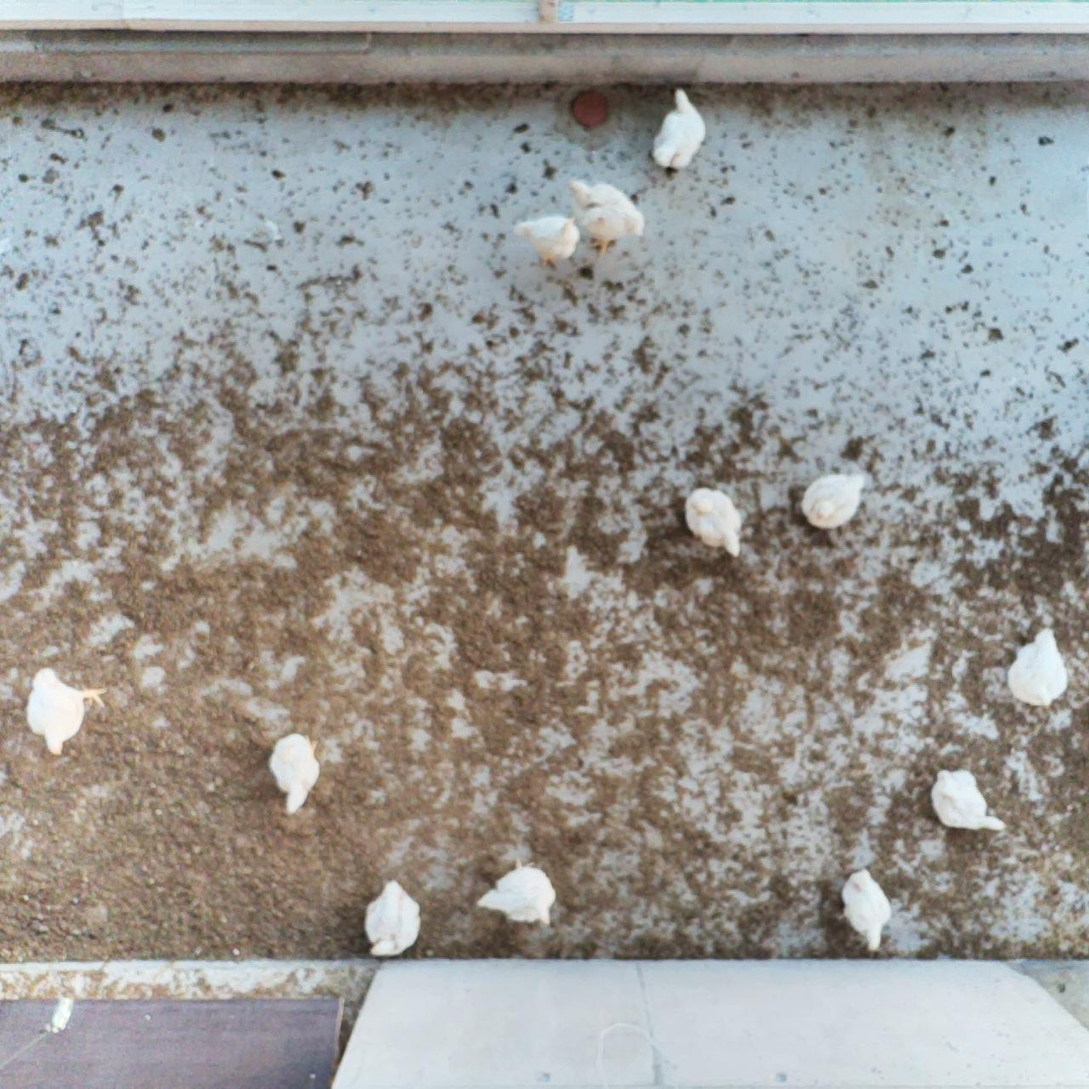chicken: (563, 175, 651, 253), (475, 853, 561, 927), (1004, 622, 1072, 712), (930, 764, 1008, 837), (646, 86, 710, 172), (833, 867, 894, 957), (264, 726, 324, 816), (362, 879, 426, 959), (682, 485, 748, 562), (797, 468, 871, 530), (511, 212, 585, 271)
